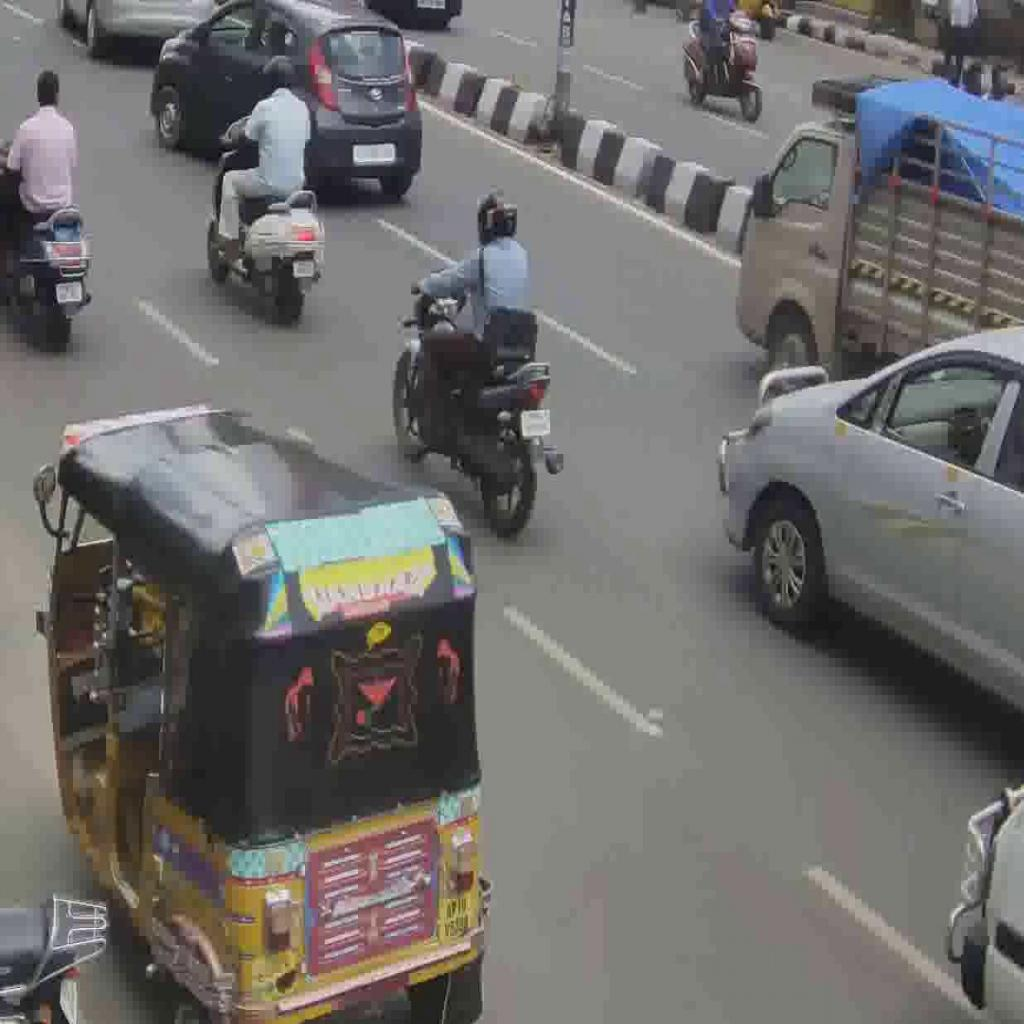helmet: (392, 271, 564, 536), (207, 114, 326, 322), (1, 136, 95, 343)
